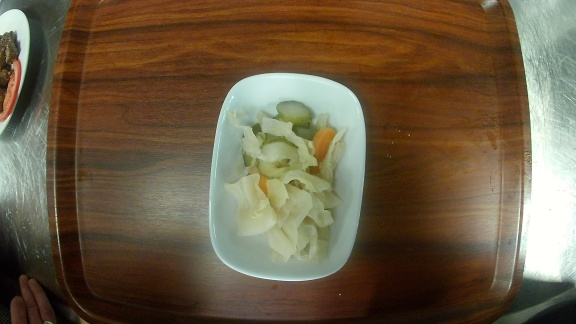tursu: (208, 72, 367, 281)
